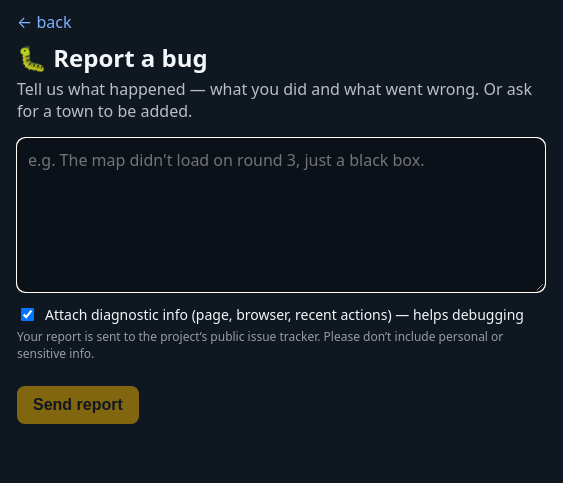
Test: BugReport › shows an error and keeps the text when the send fails
This screenshot has width=563, height=483.
Type "the map went black" into the text box. click: (281,215)
box: [17,138,545,292]
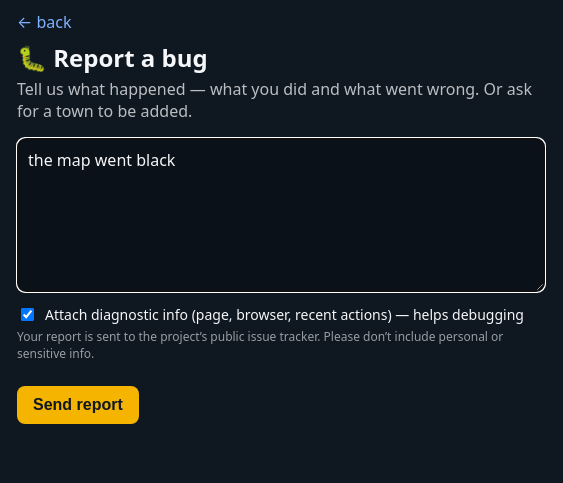
Click the button "Send report". click: (78,405)
box: [17,386,139,424]
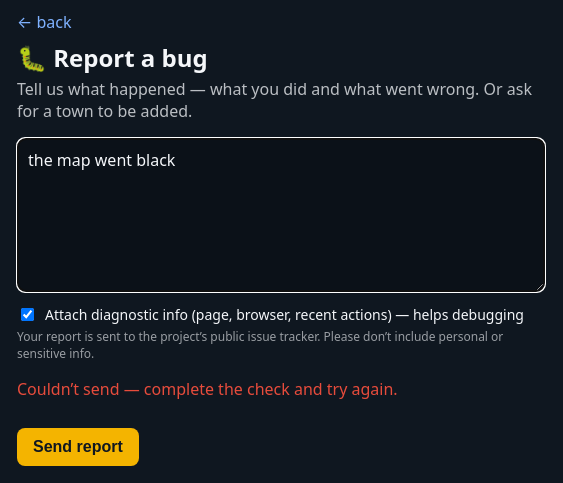
Result: the text "Couldn’t send — complete the check and try again." is shown at [17,378,398,400]
